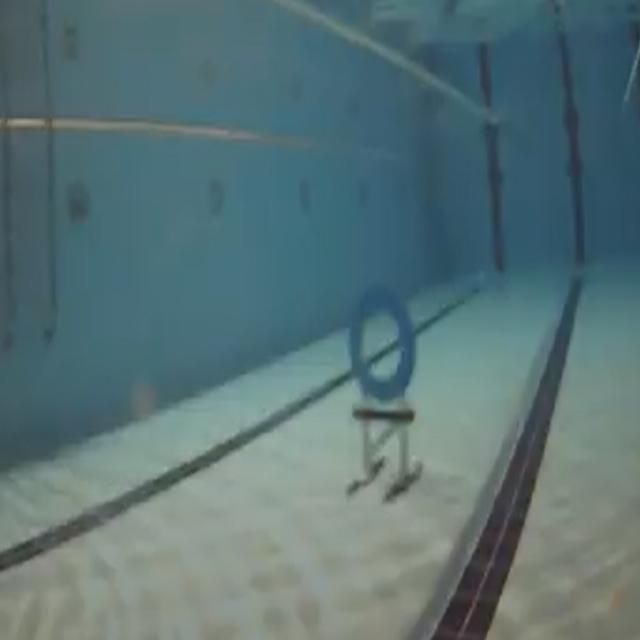Circle: (349, 274, 416, 404)
